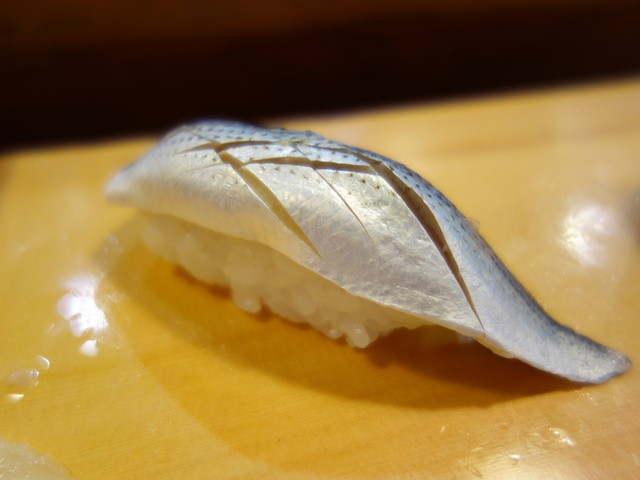spotted-shad: (106, 116, 636, 396)
